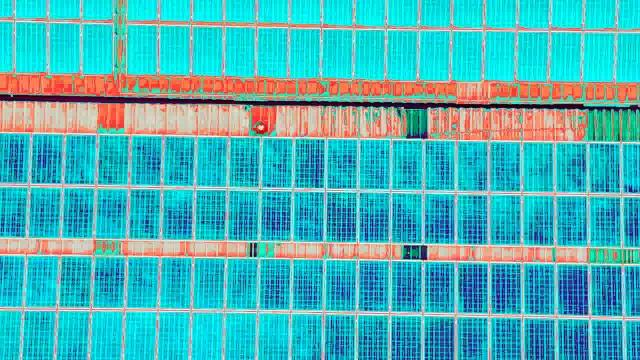dirty: (12, 21, 48, 76), (46, 21, 82, 76), (78, 20, 114, 75), (121, 20, 157, 75), (158, 23, 194, 78), (191, 23, 227, 78), (222, 22, 258, 77), (251, 23, 287, 78), (286, 25, 322, 80), (316, 24, 352, 79), (349, 26, 385, 81), (383, 28, 419, 83), (419, 29, 455, 84), (449, 26, 485, 81), (481, 30, 517, 85), (514, 28, 550, 83), (549, 28, 585, 83), (581, 29, 617, 84), (29, 131, 63, 189), (65, 130, 99, 188), (97, 131, 131, 189), (127, 130, 161, 188), (161, 132, 195, 190), (193, 132, 227, 190), (226, 131, 260, 189), (259, 133, 293, 191), (292, 134, 326, 192), (323, 133, 357, 191), (359, 136, 393, 194), (390, 134, 424, 192), (422, 134, 456, 192), (458, 137, 492, 195), (488, 137, 522, 195), (522, 136, 556, 194), (551, 139, 585, 197), (586, 136, 620, 194), (589, 193, 623, 251), (551, 189, 585, 247), (519, 192, 553, 250), (489, 189, 523, 247), (455, 186, 489, 244), (421, 186, 455, 244), (389, 188, 423, 246), (356, 187, 390, 245), (321, 187, 355, 245), (291, 187, 325, 245), (260, 184, 294, 242), (225, 186, 259, 244), (192, 186, 226, 244), (160, 183, 194, 241), (127, 184, 161, 242), (94, 184, 128, 242), (62, 183, 96, 241), (26, 182, 60, 240), (24, 252, 58, 310), (56, 251, 90, 309), (88, 254, 122, 312), (126, 256, 160, 314), (160, 254, 194, 312), (192, 253, 226, 311), (227, 256, 261, 314), (257, 256, 291, 314), (289, 259, 323, 317), (325, 256, 359, 314), (357, 256, 391, 314), (388, 259, 422, 317), (420, 258, 454, 316), (455, 258, 489, 316), (490, 261, 524, 319), (518, 261, 552, 319), (550, 261, 584, 319), (591, 263, 625, 321), (22, 313, 53, 360), (55, 313, 86, 360), (91, 312, 122, 359), (124, 313, 155, 360), (158, 313, 189, 360), (193, 313, 224, 360), (226, 313, 257, 360), (256, 313, 287, 360), (293, 313, 324, 360), (325, 313, 356, 360), (358, 313, 389, 360), (390, 313, 421, 360), (422, 317, 451, 360), (459, 317, 488, 360), (496, 317, 525, 360), (525, 317, 554, 360), (559, 317, 588, 360), (593, 321, 621, 360)
